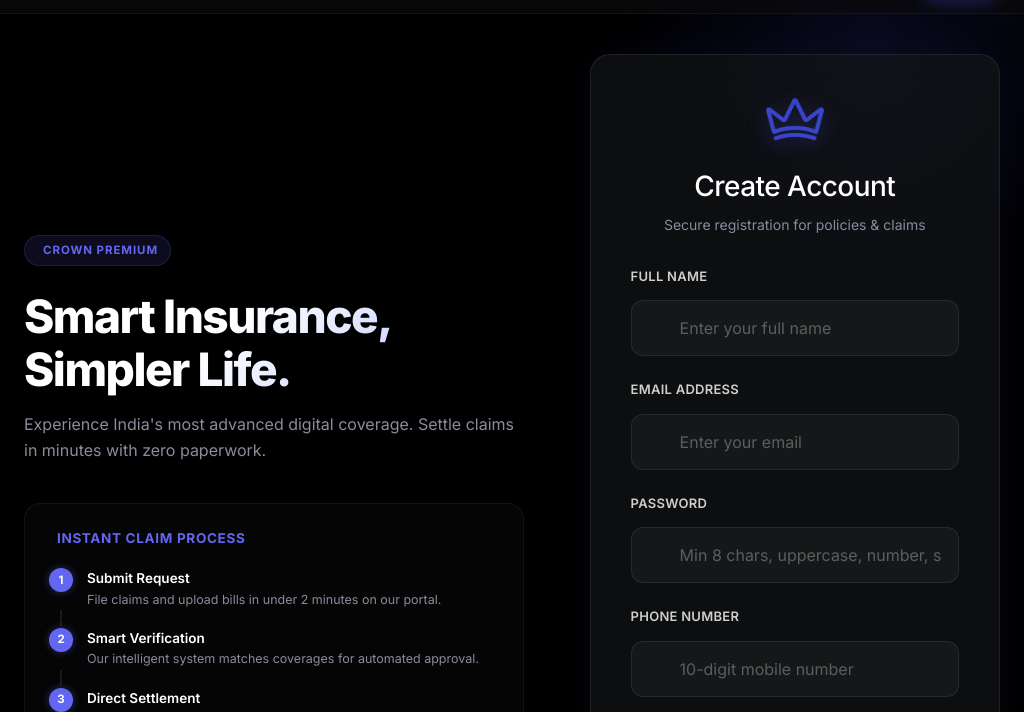
Test: Register Page › shows phone number validation error for non-10-digit input
The width and height of the screenshot is (1024, 712).
In the field with placeholder "Enter your full name": {"x": 795, "y": 328} [631,300,959,356], type "Test User"
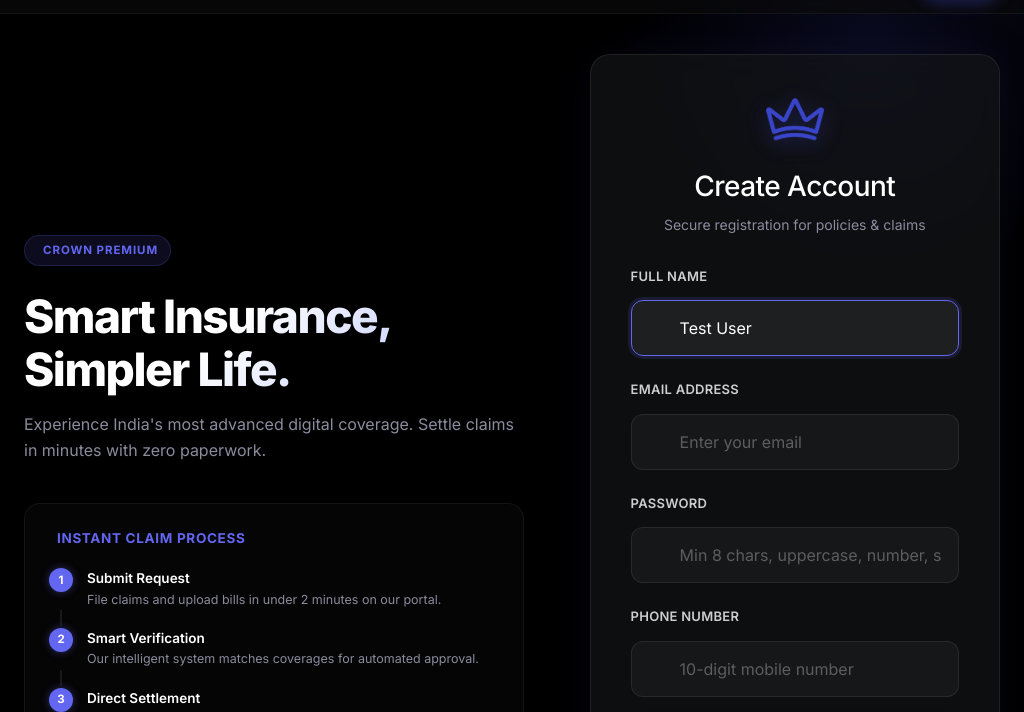
In the field with placeholder "Enter your email": {"x": 795, "y": 442} [631,414,959,470], type "test@test.com"
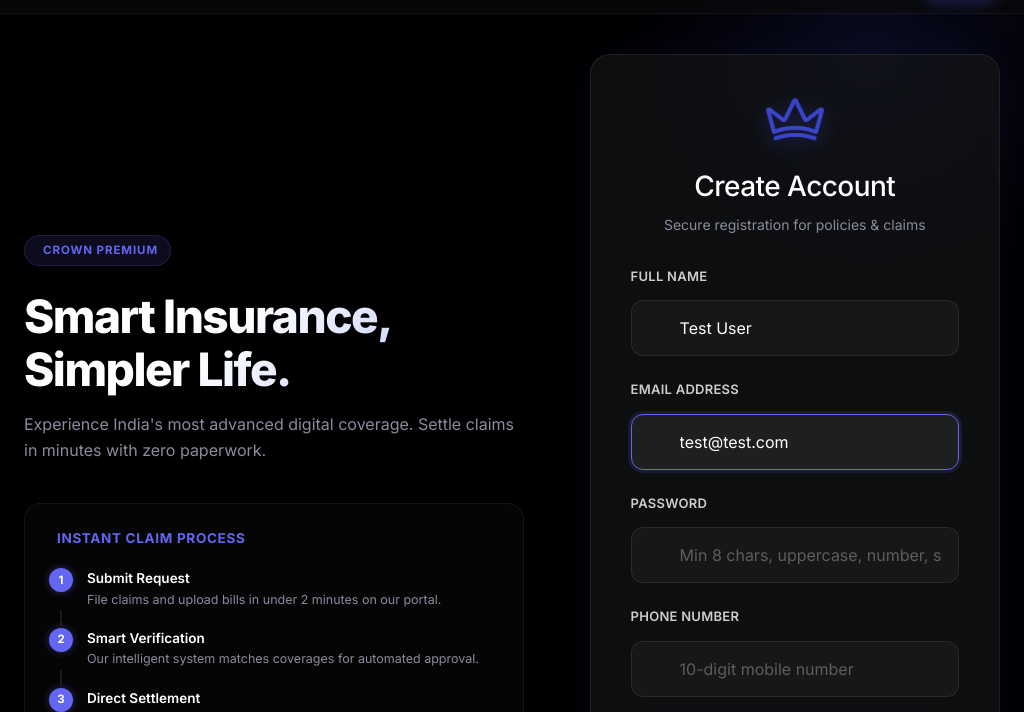
In the password field with placeholder "Min 8 chars, uppercase, number, special char": {"x": 795, "y": 555} [631,527,959,583], type "ValidPass@123"
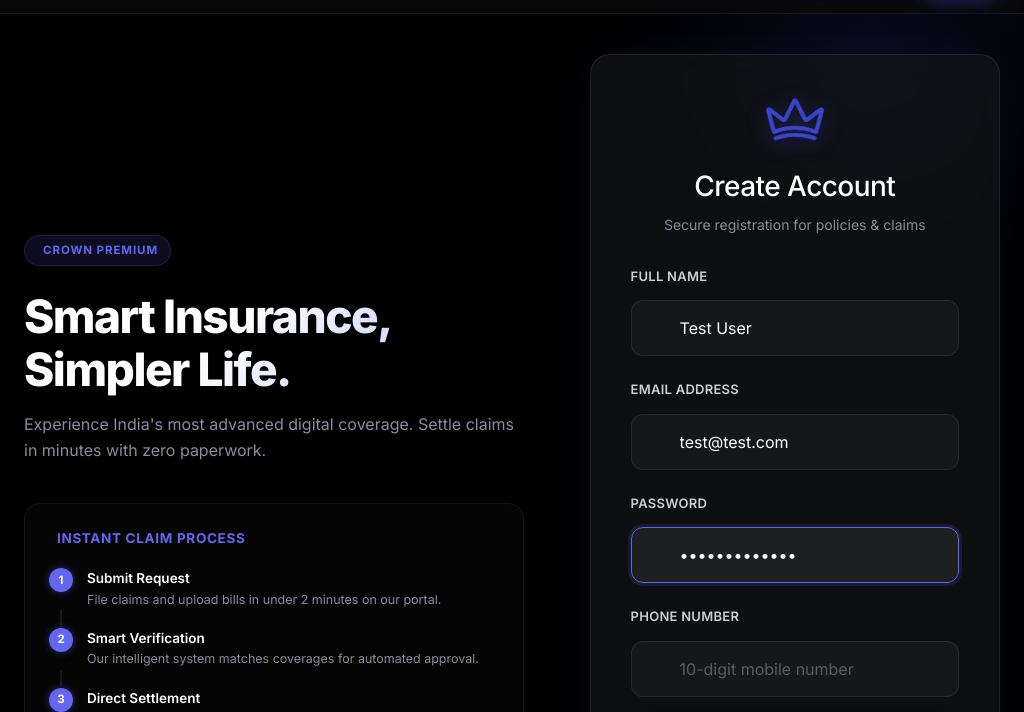
In the field with placeholder "10-digit mobile number": {"x": 795, "y": 669} [631,641,959,697], type "12345"
(page scrolled)
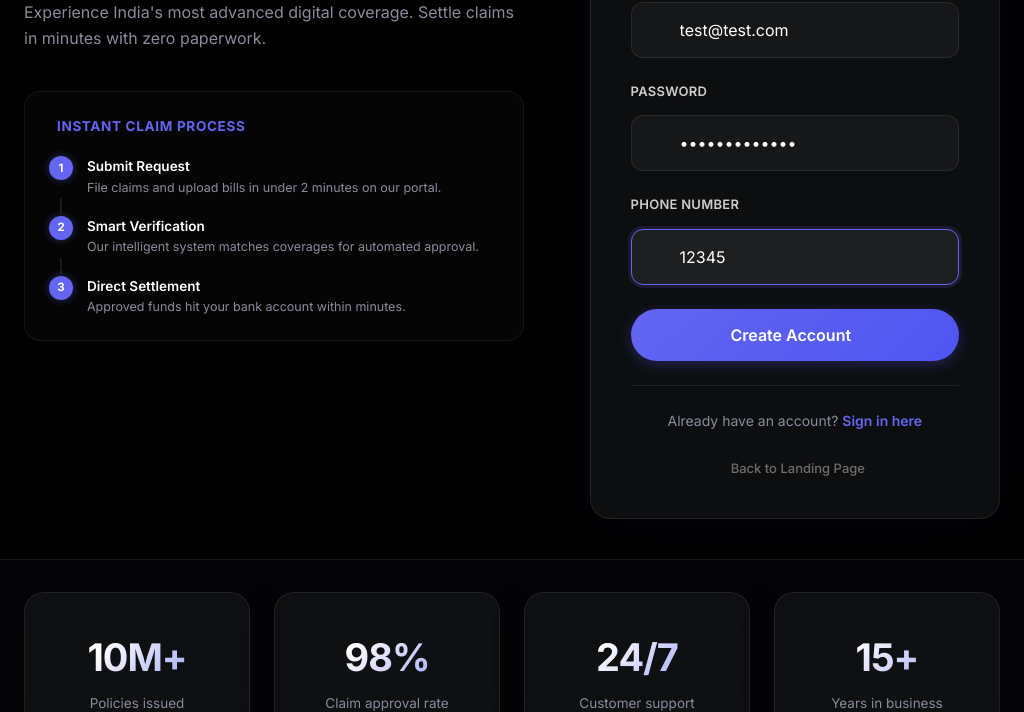
Click the button "Create Account": {"x": 795, "y": 335} [631,309,959,361]
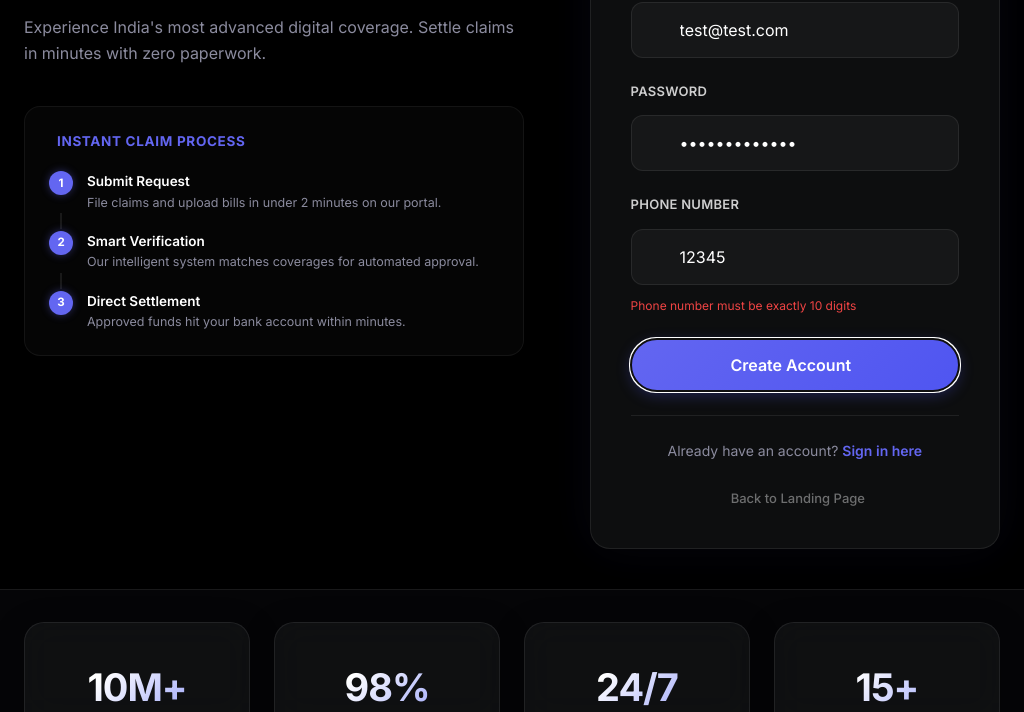
Check: the text "Phone number must be exactly 10 digits" is shown, box [631,298,856,313]
